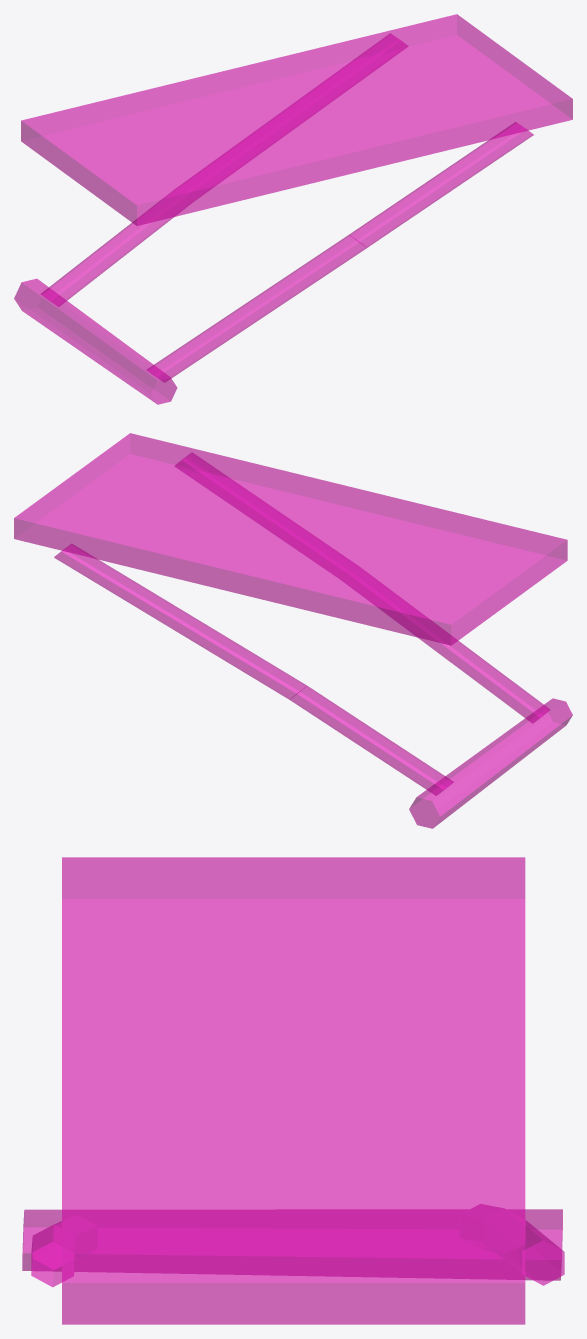
Rendered from SM_Prop_Scaffolding_07_Collision.fbx.
3 renders of one model, top to bottom at view 1: azimuth 30°, elevation 25°; view 2: azimuth 150°, elevation 25°; view 3: azimuth 270°, elevation 25°, orthographic. The views are drawn at different scales.
Parts seen in each view (by area): view 1: SM_Prop_Scaffolding_07_Collision; view 2: SM_Prop_Scaffolding_07_Collision; view 3: SM_Prop_Scaffolding_07_Collision.
Part boxes in pixels (x1,y1,x2,y2): SM_Prop_Scaffolding_07_Collision: (14,14,572,404); SM_Prop_Scaffolding_07_Collision: (14,433,572,828); SM_Prop_Scaffolding_07_Collision: (22,857,564,1324).
Bounding box in the file's own units: 541 × 236 × 291.
